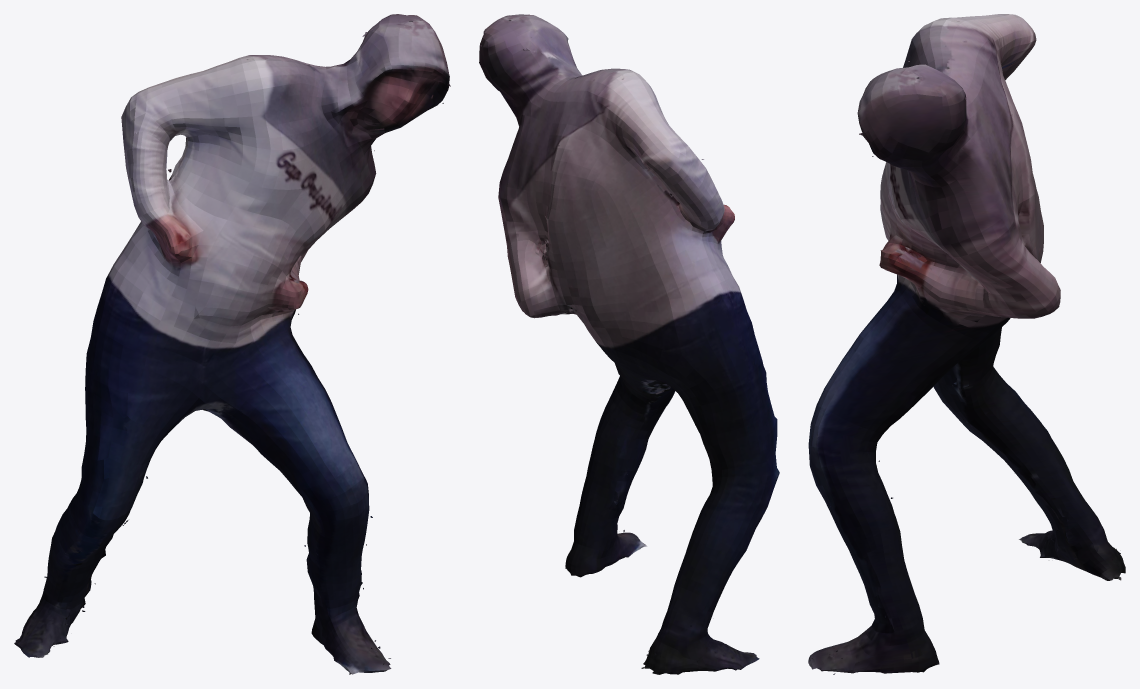
The model's file is AB-dodgeLeft_0000048.obj.
3 renders of one model, left to right at view 1: azimuth 30°, elevation 25°; view 2: azimuth 150°, elevation 25°; view 3: azimuth 270°, elevation 25°, orthographic. The views are drawn at different scales.
Parts seen in each view (by area): view 1: Retopo_frame_0000048_mesh; view 2: Retopo_frame_0000048_mesh; view 3: Retopo_frame_0000048_mesh.
Part boxes in pixels (left/top/right/bottom): Retopo_frame_0000048_mesh: left=14, top=14, right=450, bottom=674; Retopo_frame_0000048_mesh: left=479, top=14, right=779, bottom=674; Retopo_frame_0000048_mesh: left=808, top=14, right=1125, bottom=674.
Bounding box in the file's own units: 0.8758 × 1.44 × 0.6515.
1 material, 1 textured.
